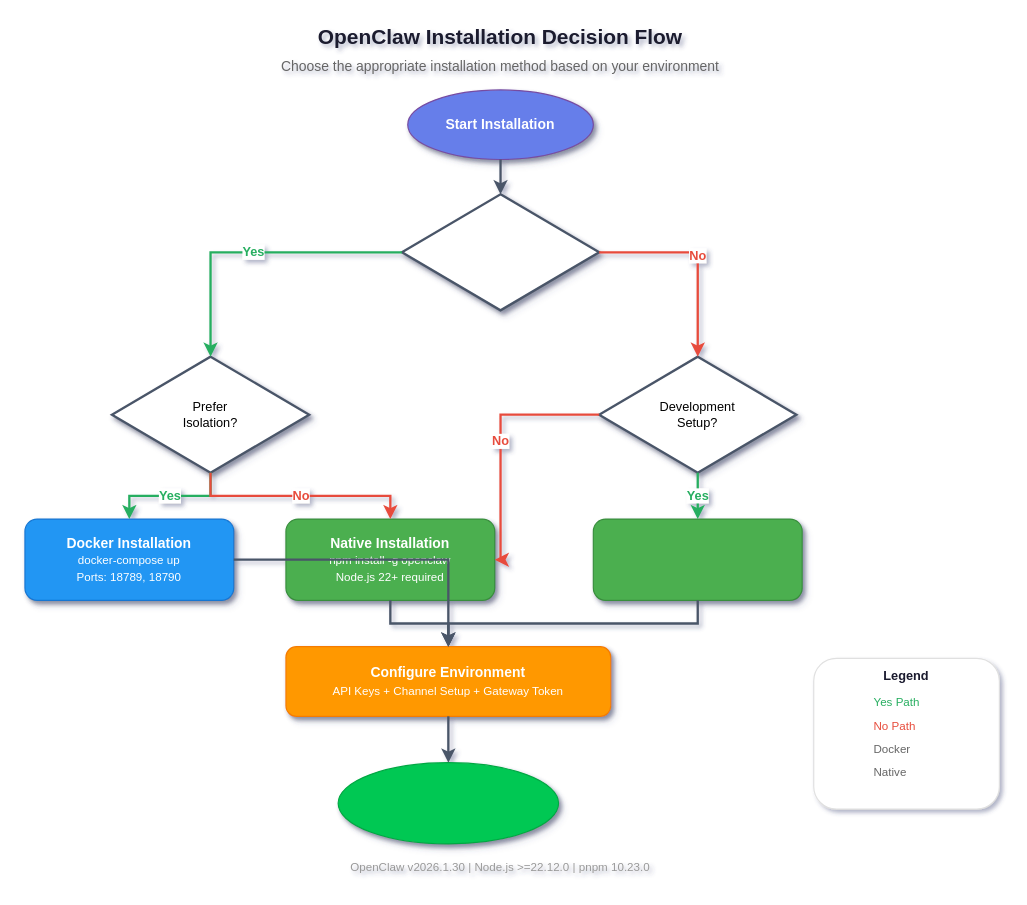
Some shapes in this 1027 by 905 pixel diagram are drawn without their labels. Each missing label, with the centre of its shape:
"Docker Available?" goes at point 501,253.
"OpenClaw Ready Gateway Running on Port 18789" goes at point 449,804.
"Source Installation git clone + pnpm install Development mode" goes at point 698,560.
